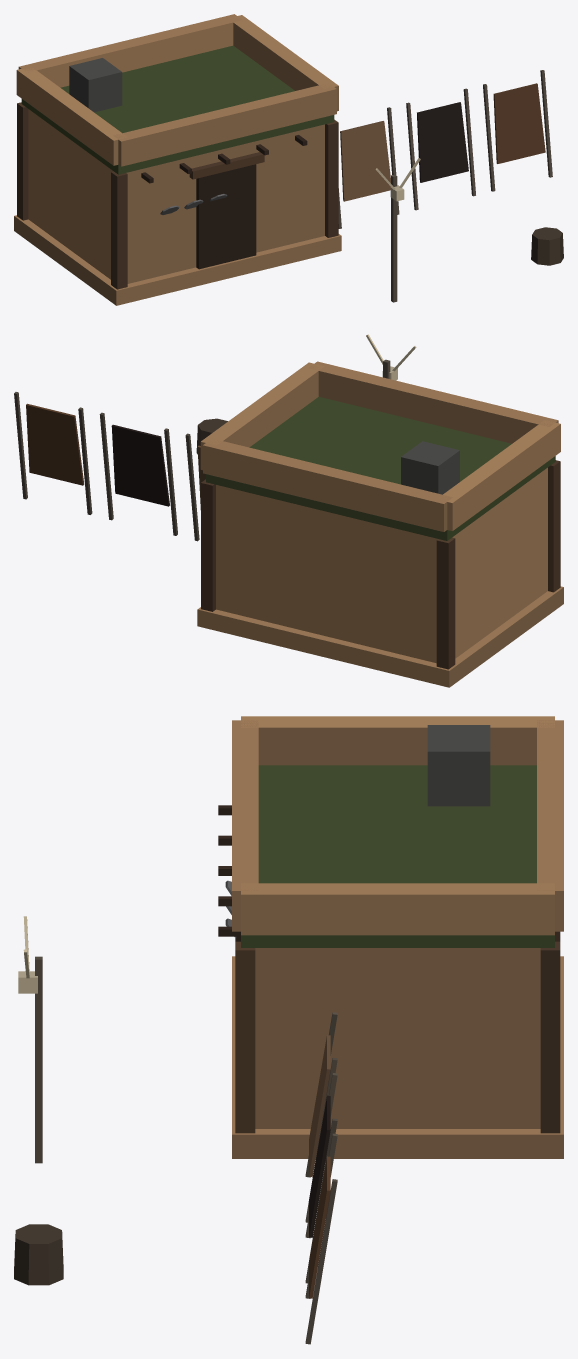
Rendered from walk_steppe_trapper.glb.
3 views of the same model, one above another, from view 1: azimuth 30°, elevation 25°; view 2: azimuth 150°, elevation 25°; view 3: azimuth 270°, elevation 25° (orthographic). The views are drawn at different scales.
Parts seen in each view (by area): view 1: walk_steppe_trapper, walk_steppe_trapper_roof; view 2: walk_steppe_trapper, walk_steppe_trapper_roof; view 3: walk_steppe_trapper, walk_steppe_trapper_roof.
Part boxes in pixels (box(x1,y1,x2,y2)): walk_steppe_trapper: box(14, 70, 563, 305); walk_steppe_trapper_roof: box(16, 14, 338, 174); walk_steppe_trapper: box(14, 334, 563, 687); walk_steppe_trapper_roof: box(200, 361, 560, 540); walk_steppe_trapper: box(14, 805, 563, 1344); walk_steppe_trapper_roof: box(232, 716, 563, 947).
Size of what is drawn, in the model's own units: 9.58 by 3.56 by 6.13.
Materials: 2 (2 with a texture image).
